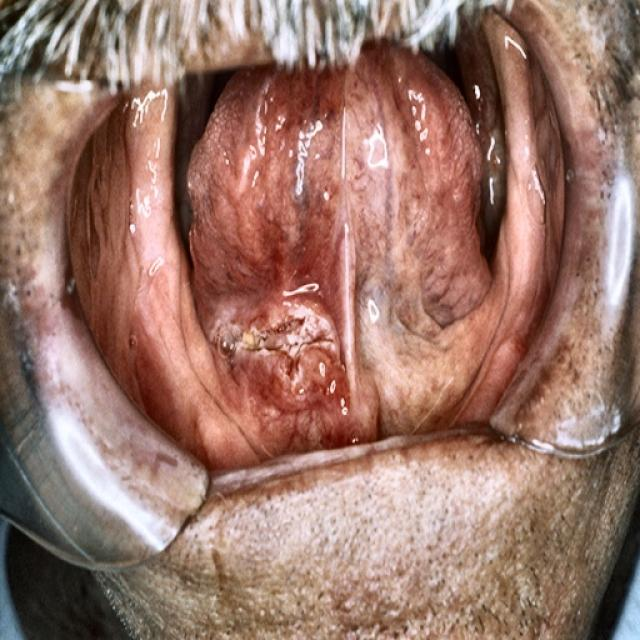cancer-detection: (180, 240, 511, 459)
processing_area: (67, 17, 569, 481)
